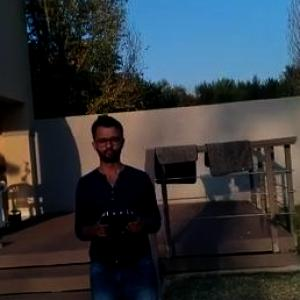follow: (68, 112, 168, 298)
